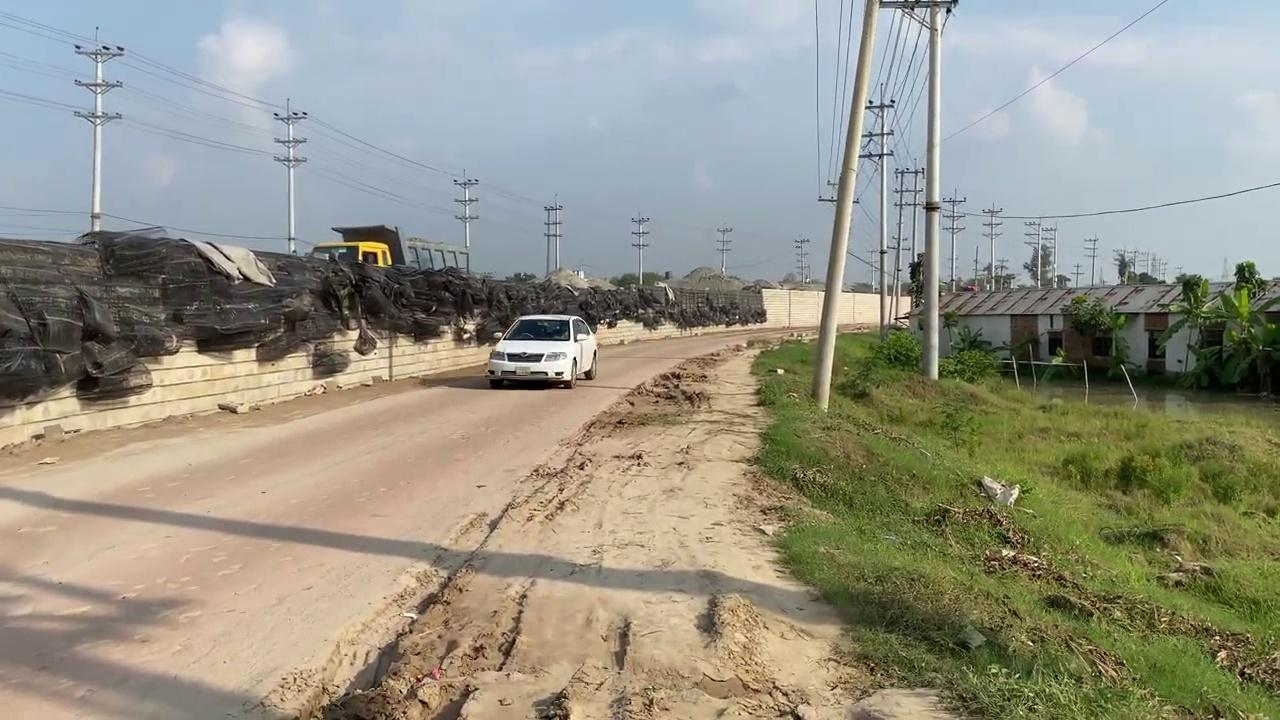Car: (485, 313, 598, 389)
Obstacle: (892, 277, 1275, 385)
Pole: (810, 0, 880, 411), (920, 3, 942, 381)
Rickshaw: (493, 318, 948, 720)
Tree: (309, 223, 470, 273), (309, 240, 392, 266)
Upstairs: (0, 227, 766, 405)
